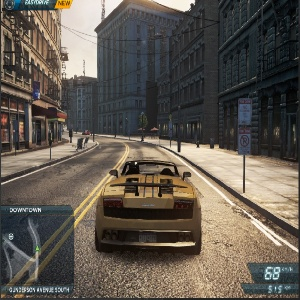building: (95, 11, 179, 134)
electrical pole: (173, 31, 185, 154)
mailbox: (68, 129, 74, 143)
road sign: (237, 97, 253, 194)
tree: (139, 111, 147, 140)
